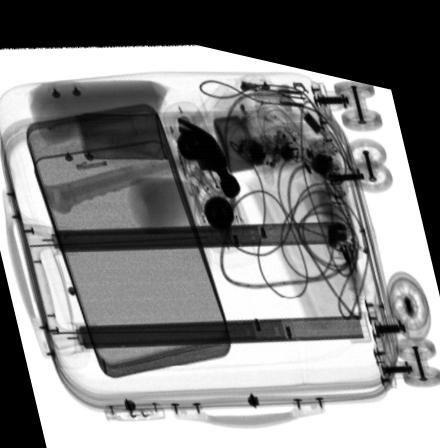Hammer: (40, 108, 241, 212)
